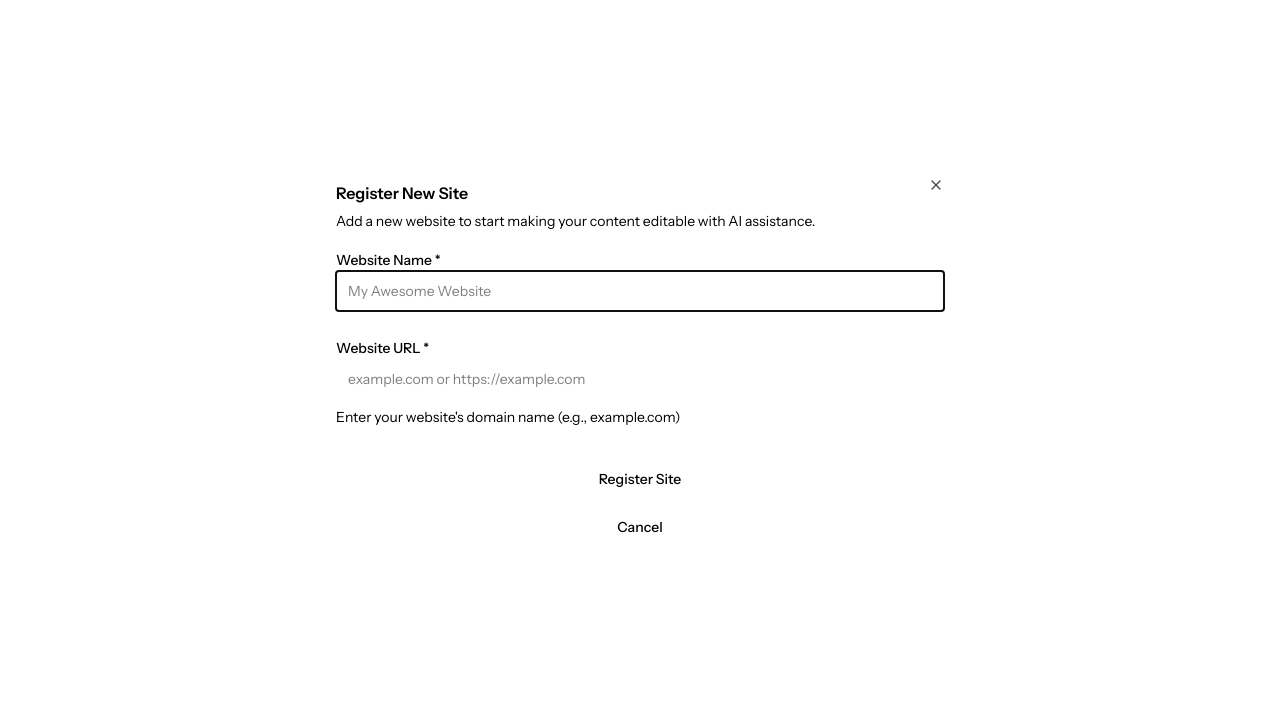
Test case: SiteRegistrationModal › Form Validation › should show error when website name is empty
What coordinates should you click on to do the following:
click the button "Register Site"
I would click on:
 (640, 479)
Its box is [336,459,944,499].
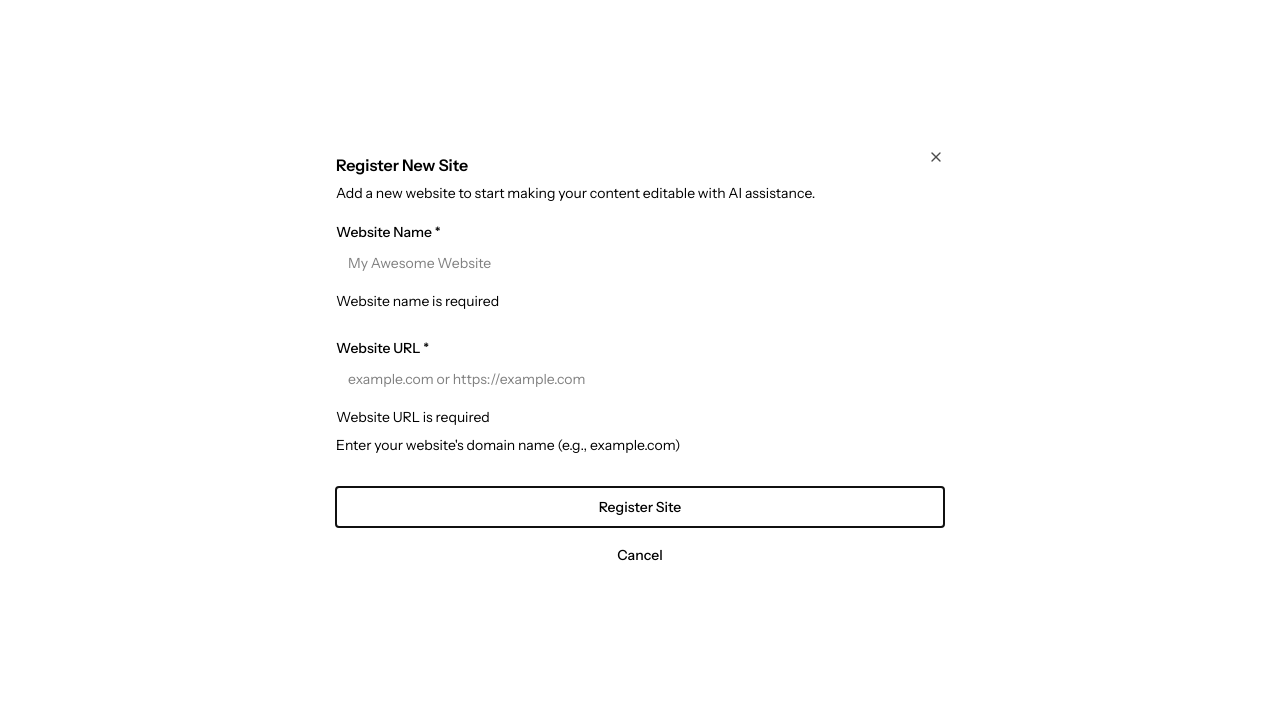
expect the text "Website name is required" is shown: met, box [336,292,499,310]
